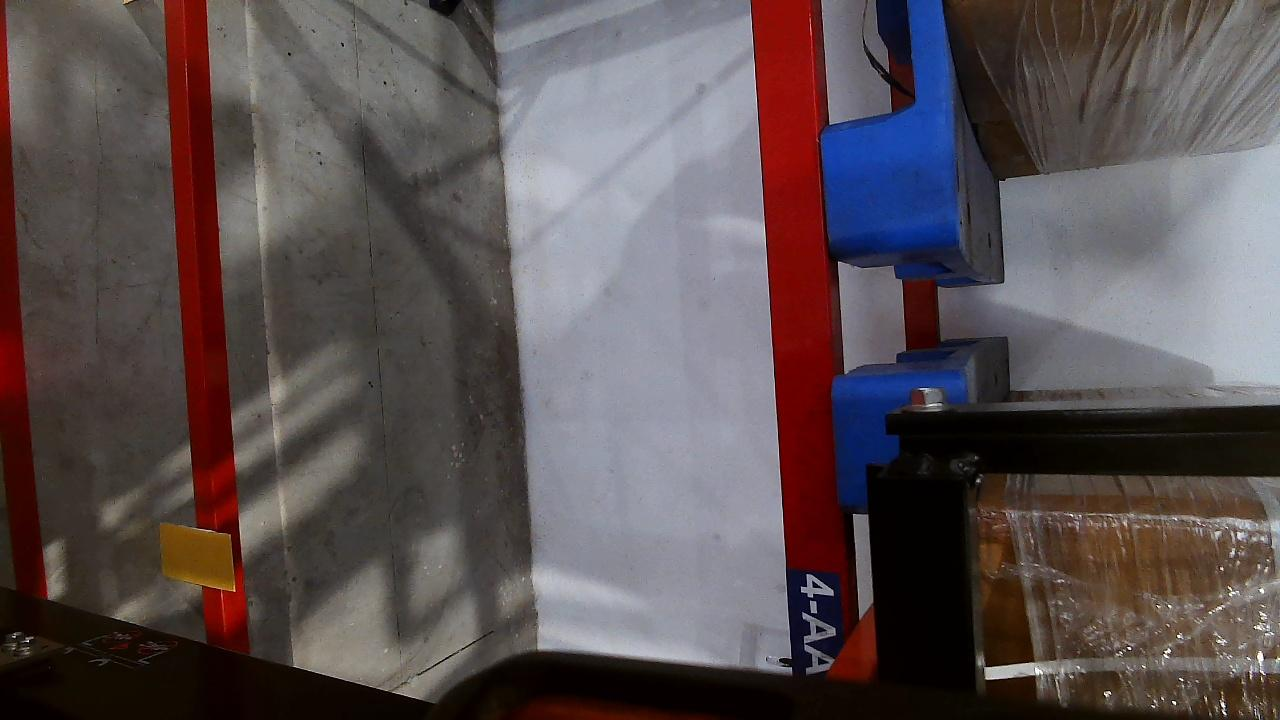h_rack: (162, 1, 252, 658), (750, 0, 844, 596)
orange_strip: (163, 528, 236, 590)
red_line: (0, 3, 32, 597)
small_pallet: (815, 0, 962, 242)
